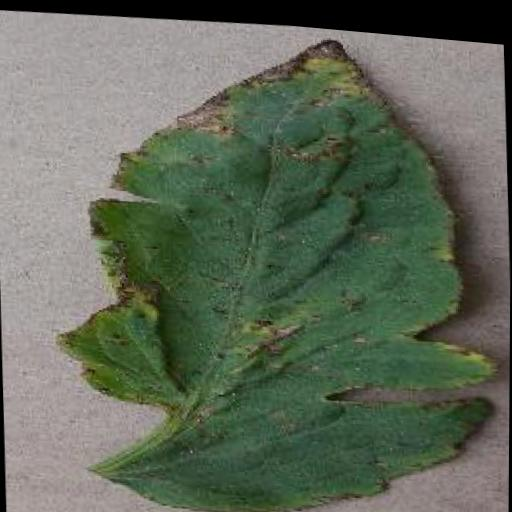Bacterial Spot: (38, 3, 508, 512)
